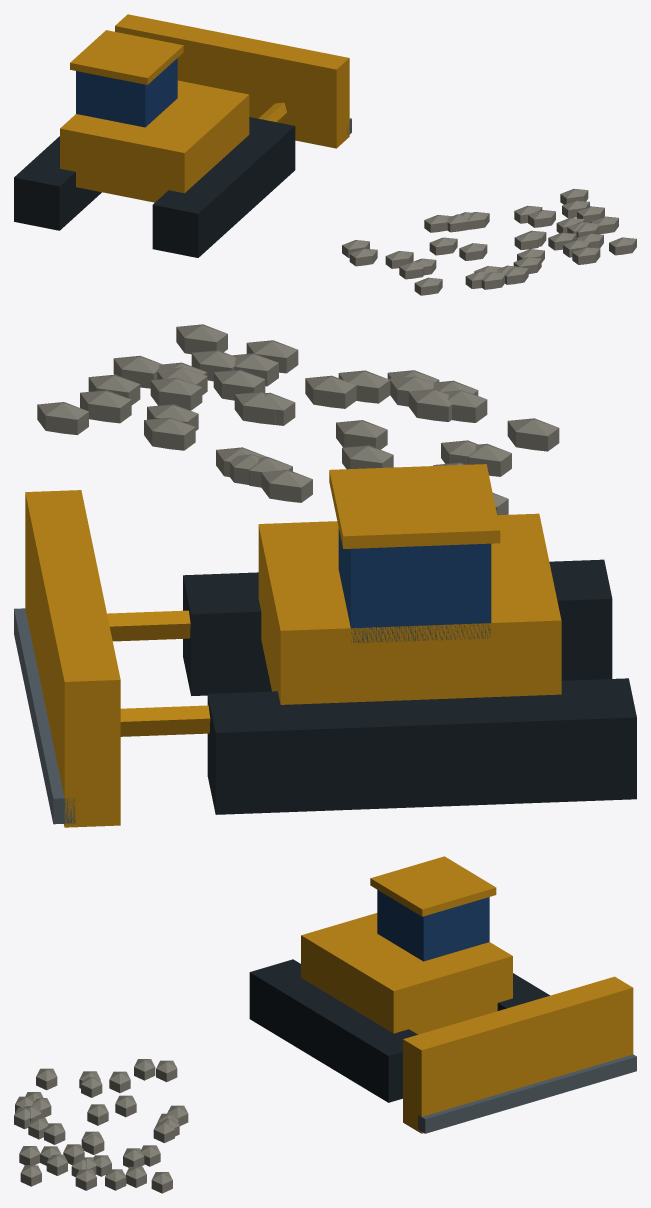
Rendered from construction3.glb.
3 renders of one model, top to bottom at view 1: azimuth 30°, elevation 25°; view 2: azimuth 150°, elevation 25°; view 3: azimuth 270°, elevation 25°, orthographic. The views are drawn at different scales.
Parts seen in each view (by area): view 1: construction3; view 2: construction3; view 3: construction3.
Part boxes in pixels (<box>): construction3: <box>14,14,636,295</box>; construction3: <box>14,324,636,827</box>; construction3: <box>14,856,636,1193</box>.
Bounding box in the file's own units: 33.97 × 9.85 × 38.57.
